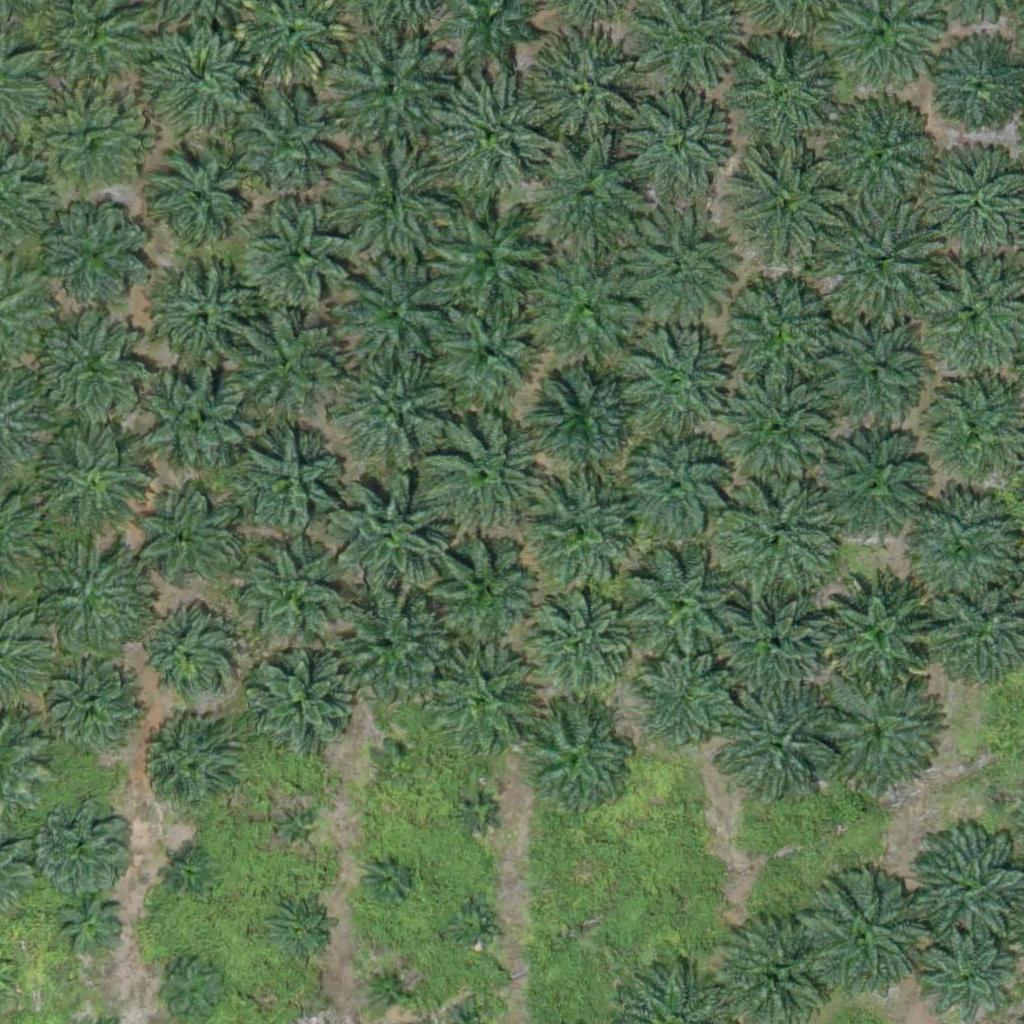Kelapa_Sawit: (817, 94, 942, 220), (723, 35, 848, 161), (723, 147, 848, 273), (518, 26, 643, 152), (526, 137, 651, 263), (422, 72, 547, 198), (328, 27, 453, 153), (318, 142, 443, 268), (231, 535, 356, 661), (334, 250, 459, 376), (332, 344, 457, 470), (327, 479, 452, 605), (327, 594, 452, 720), (424, 189, 549, 315), (428, 288, 553, 414), (424, 409, 549, 535), (414, 522, 539, 648), (516, 244, 641, 370), (610, 326, 735, 452), (613, 203, 738, 329), (615, 546, 740, 672), (720, 366, 845, 492), (719, 474, 844, 600), (715, 682, 840, 808), (814, 567, 939, 693), (818, 671, 943, 797), (799, 878, 924, 1004), (33, 536, 158, 661), (720, 272, 845, 397), (895, 485, 1020, 610), (516, 583, 629, 697), (528, 476, 641, 590), (629, 645, 742, 759), (31, 83, 144, 196), (41, 194, 154, 307), (149, 264, 262, 377), (36, 309, 149, 422), (36, 422, 149, 535), (134, 360, 247, 473), (248, 650, 361, 763), (520, 702, 633, 815), (531, 364, 644, 477), (815, 430, 928, 543), (816, 316, 929, 429), (829, 201, 942, 314), (228, 311, 340, 425), (617, 87, 729, 200), (235, 89, 347, 202), (142, 142, 254, 255), (142, 18, 254, 131), (243, 198, 355, 311), (230, 424, 342, 537), (427, 650, 539, 763), (621, 434, 733, 547), (713, 590, 825, 703), (43, 660, 143, 761), (133, 488, 233, 589), (135, 605, 235, 706), (133, 718, 233, 819), (38, 795, 138, 896), (268, 899, 330, 962), (59, 890, 121, 953), (365, 960, 415, 1011), (363, 851, 413, 901), (452, 788, 502, 838), (448, 899, 498, 949), (268, 803, 318, 853), (371, 734, 421, 784), (170, 857, 208, 894)
